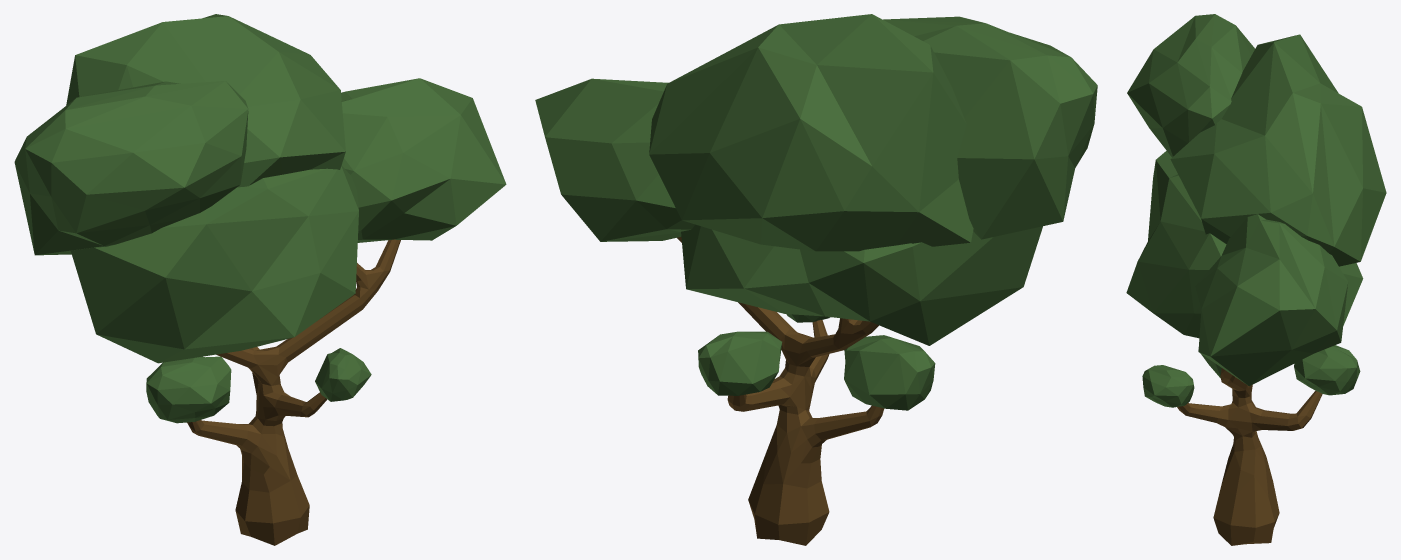
Rendered from Tree2.3.fbx.
The picture shows the model from 3 angles, left to right: view 1: azimuth 30°, elevation 25°; view 2: azimuth 150°, elevation 25°; view 3: azimuth 270°, elevation 25°; orthographic projection. The views are drawn at different scales.
Parts seen in each view (by area): view 1: Tree2.3; view 2: Tree2.3; view 3: Tree2.3.
Part boxes in pixels (bbox=[...]): Tree2.3: bbox=[14, 14, 506, 545]; Tree2.3: bbox=[535, 14, 1097, 545]; Tree2.3: bbox=[1126, 14, 1386, 545].
Size of the model in its own units: 567 by 590 by 302.
